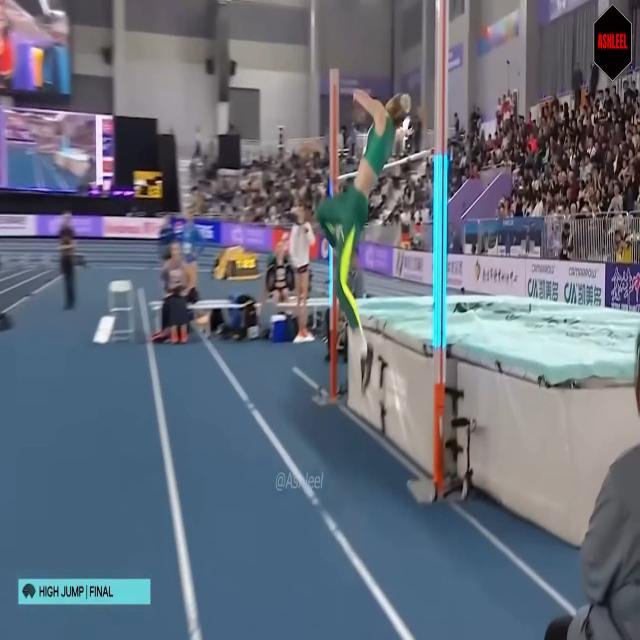jump: (316, 83, 413, 395)
